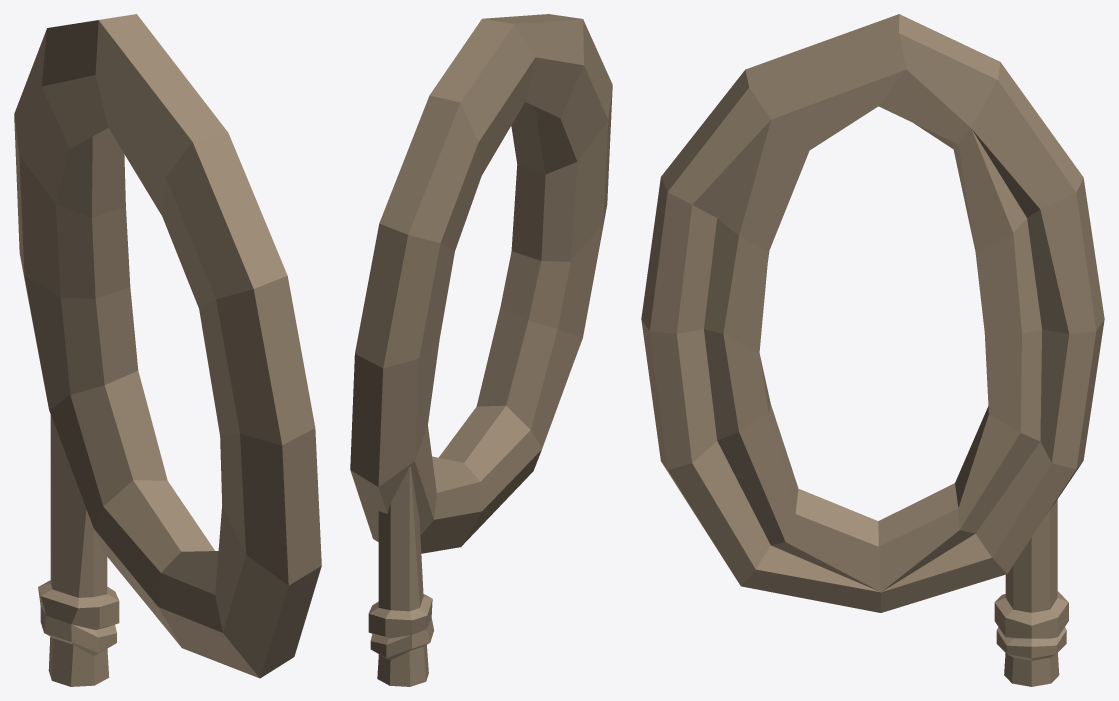
The model's file is SM_Item_Rope_Attachment_01.glb.
3 renders of one model, left to right at view 1: azimuth 30°, elevation 25°; view 2: azimuth 150°, elevation 25°; view 3: azimuth 270°, elevation 25°, orthographic. The views are drawn at different scales.
Visible parts, largest first — view 1: SM_Item_Rope_Attachment_01; view 2: SM_Item_Rope_Attachment_01; view 3: SM_Item_Rope_Attachment_01.
Boxes of the visible parts, bbox=[...] form: SM_Item_Rope_Attachment_01: bbox=[14, 14, 321, 686]; SM_Item_Rope_Attachment_01: bbox=[350, 14, 612, 686]; SM_Item_Rope_Attachment_01: bbox=[641, 14, 1104, 686].
Size of the model in its own units: 0.000641 by 0.00341 by 0.00225.
